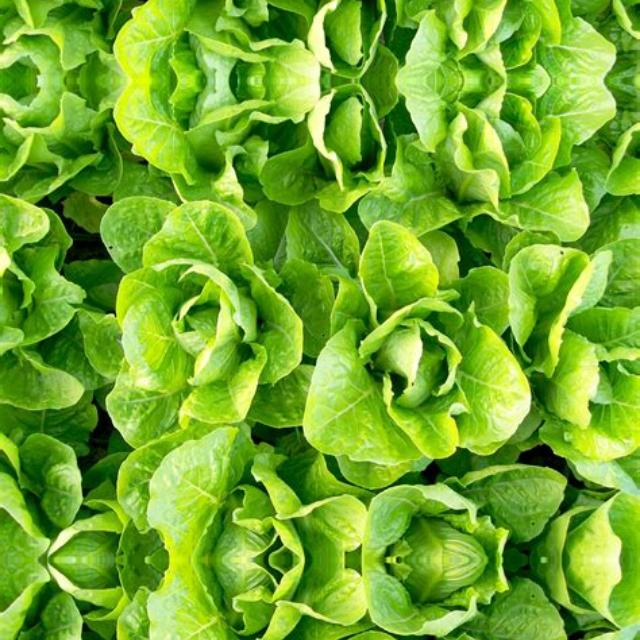healthy: (78, 199, 302, 437), (318, 232, 530, 478)
